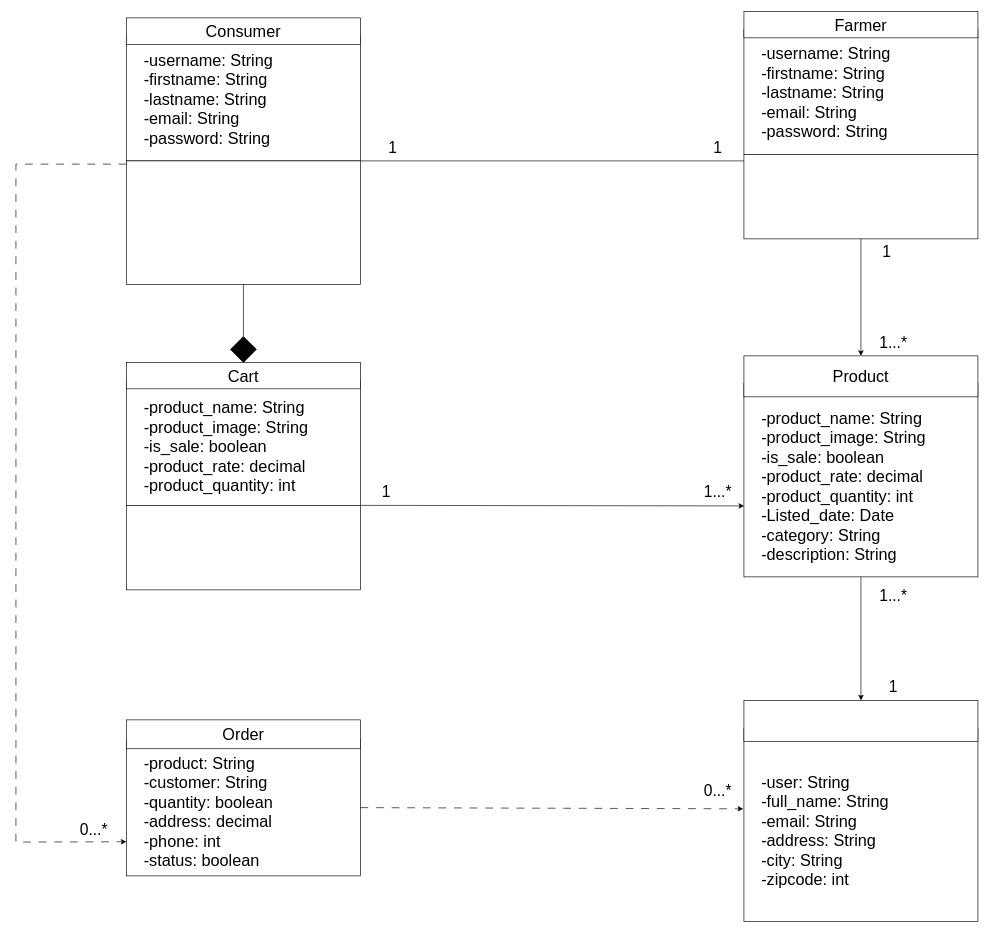
This 989x933 diagram has some shape labels left out. Each missing label, with the centre of its shape:
+add_product() +delete_product() +update_product(): (243,547)
+add_product() +view_product(): (860,196)
+login() +logout() +register() +update_info() +change_password(): (243,222)
Shipping: (860,720)
